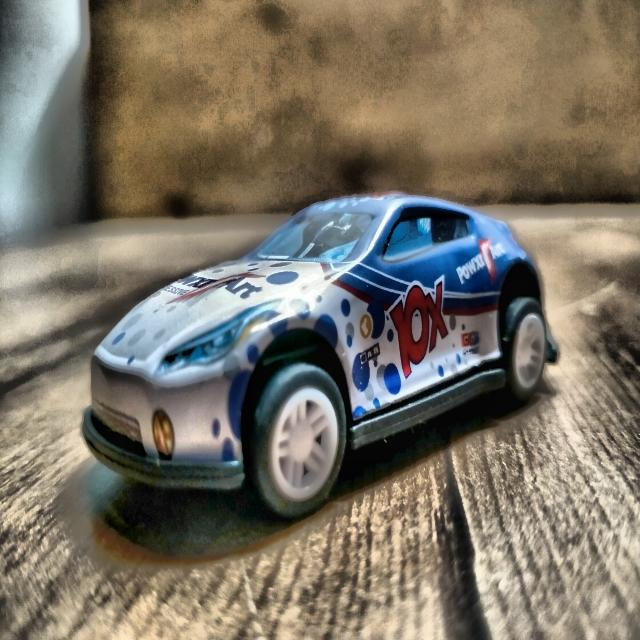Car: (82, 195, 556, 518)
